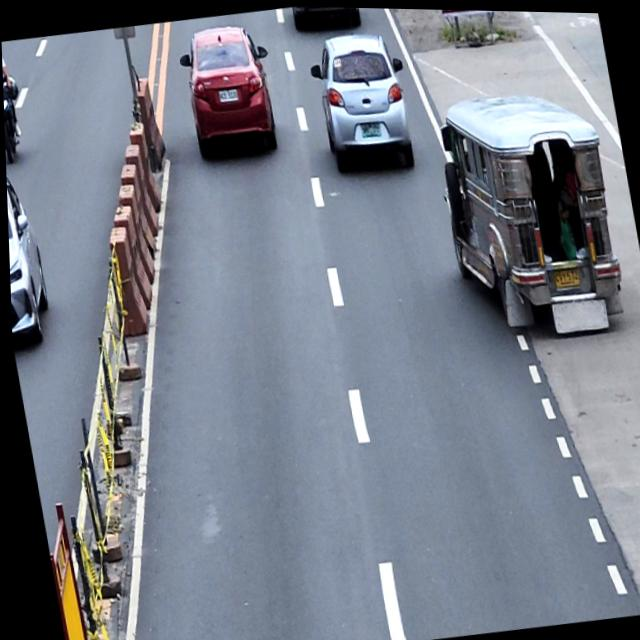Car: (305, 25, 420, 177), (174, 18, 284, 160), (5, 166, 53, 344)
Jeep: (427, 77, 631, 348)
License-Plate: (549, 262, 580, 288), (358, 118, 383, 138), (216, 86, 239, 103)
Motorcycle: (2, 73, 30, 166)
